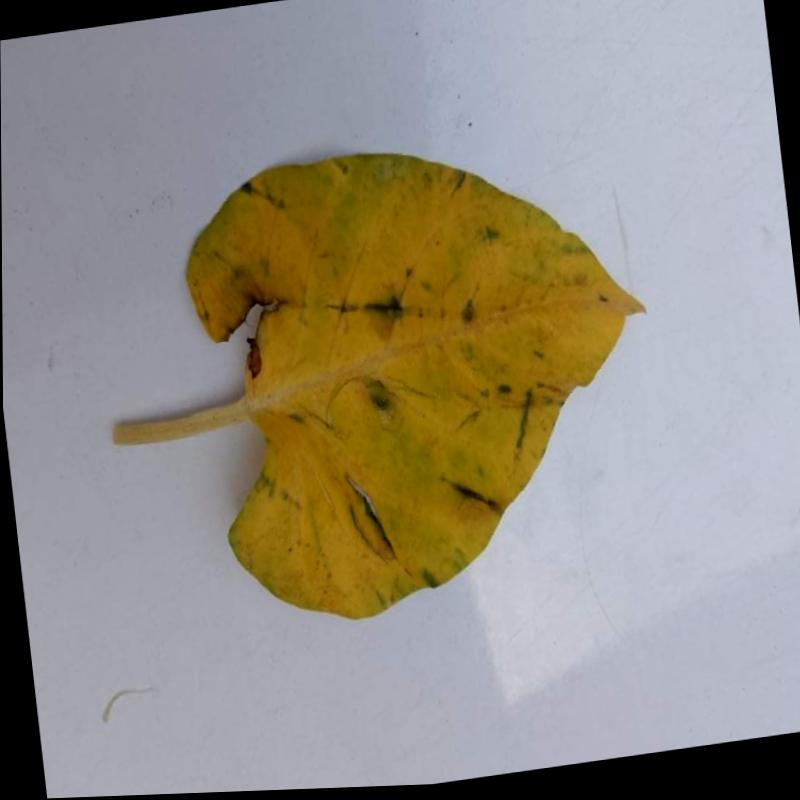treeleaves: (105, 150, 642, 621)
